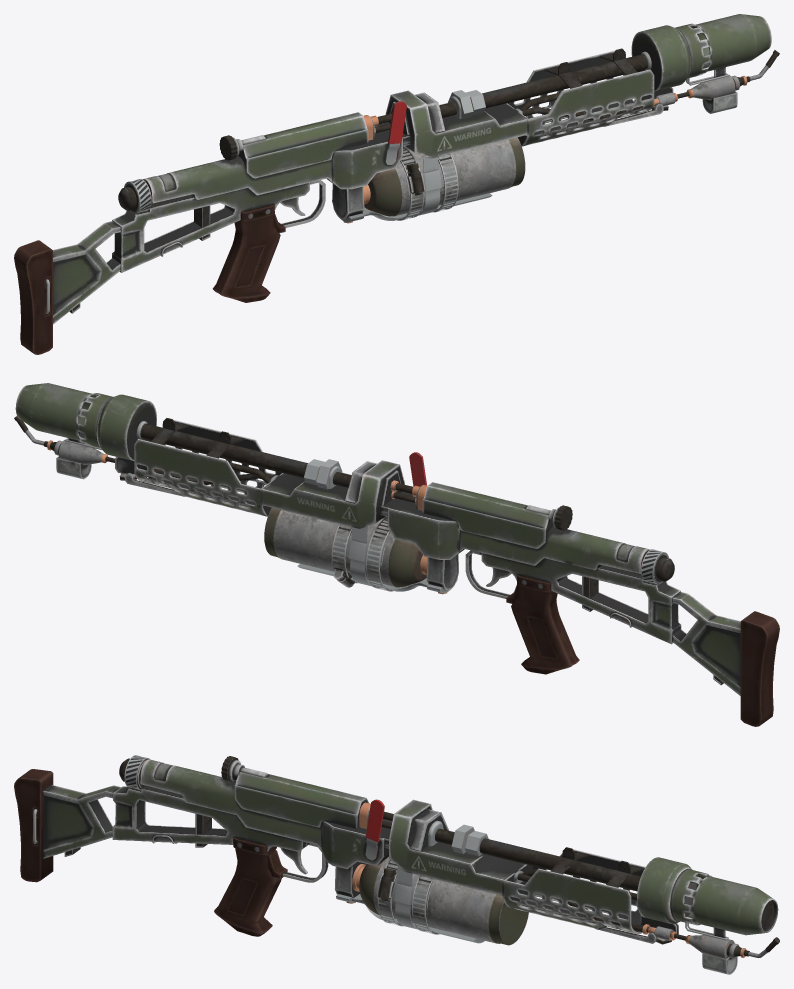
The model's file is viper.glb.
3 renders of one model, top to bottom at view 1: azimuth 30°, elevation 25°; view 2: azimuth 150°, elevation 25°; view 3: azimuth 330°, elevation 25°, orthographic.
Visible parts, largest first — view 1: Y_LP, C_LP, G_LP, X_LP, S_LP, D_LP, KK_LP_lambert1_0, JJ_LP_lambert1_0, B_LP, A_LP, DD_LP, N_LP (+10 smaller); view 2: Y_LP, C_LP, G_LP, X_LP, S_LP, D_LP, KK_LP_lambert1_0, JJ_LP_lambert1_0, B_LP, A_LP, N_LP, DD_LP (+9 smaller); view 3: Y_LP, S_LP, C_LP, JJ_LP_lambert1_0, X_LP, G_LP, D_LP, B_LP, KK_LP_lambert1_0, A_LP, DD_LP, GG_LP (+16 smaller).
Part boxes in pixels (left/top/right/bottom): Y_LP: left=506, top=50, right=654, bottom=146; C_LP: left=112, top=182, right=309, bottom=272; G_LP: left=238, top=112, right=368, bottom=178; X_LP: left=385, top=90, right=527, bottom=158; S_LP: left=395, top=137, right=525, bottom=215; D_LP: left=143, top=156, right=332, bottom=203; KK_LP_lambert1_0: left=212, top=204, right=280, bottom=302; JJ_LP_lambert1_0: left=675, top=14, right=771, bottom=78; B_LP: left=53, top=221, right=120, bottom=324; A_LP: left=14, top=240, right=52, bottom=354; DD_LP: left=631, top=25, right=691, bottom=91; N_LP: left=326, top=123, right=402, bottom=189; Y_LP: left=134, top=420, right=283, bottom=516; C_LP: left=481, top=553, right=681, bottom=644; G_LP: left=422, top=482, right=553, bottom=548; X_LP: left=262, top=460, right=404, bottom=528; S_LP: left=264, top=507, right=395, bottom=586; D_LP: left=459, top=526, right=650, bottom=573; KK_LP_lambert1_0: left=511, top=575, right=579, bottom=674; JJ_LP_lambert1_0: left=15, top=383, right=113, bottom=447; B_LP: left=672, top=591, right=740, bottom=695; A_LP: left=740, top=611, right=779, bottom=726; N_LP: left=387, top=493, right=464, bottom=559; DD_LP: left=96, top=394, right=156, bottom=460; Y_LP: left=502, top=849, right=645, bottom=933; S_LP: left=373, top=857, right=528, bottom=945; C_LP: left=112, top=786, right=307, bottom=851; JJ_LP_lambert1_0: left=670, top=869, right=778, bottom=935; X_LP: left=389, top=799, right=524, bottom=896; G_LP: left=234, top=771, right=368, bottom=828; D_LP: left=140, top=759, right=321, bottom=851; B_LP: left=42, top=785, right=120, bottom=858; KK_LP_lambert1_0: left=214, top=837, right=281, bottom=936; A_LP: left=14, top=769, right=53, bottom=882; DD_LP: left=637, top=857, right=696, bottom=924; GG_LP: left=479, top=838, right=640, bottom=891.
Bounding box in the file's own units: 0.95 × 0.2066 × 0.0912.
Materials: 1 (1 with a texture image).
